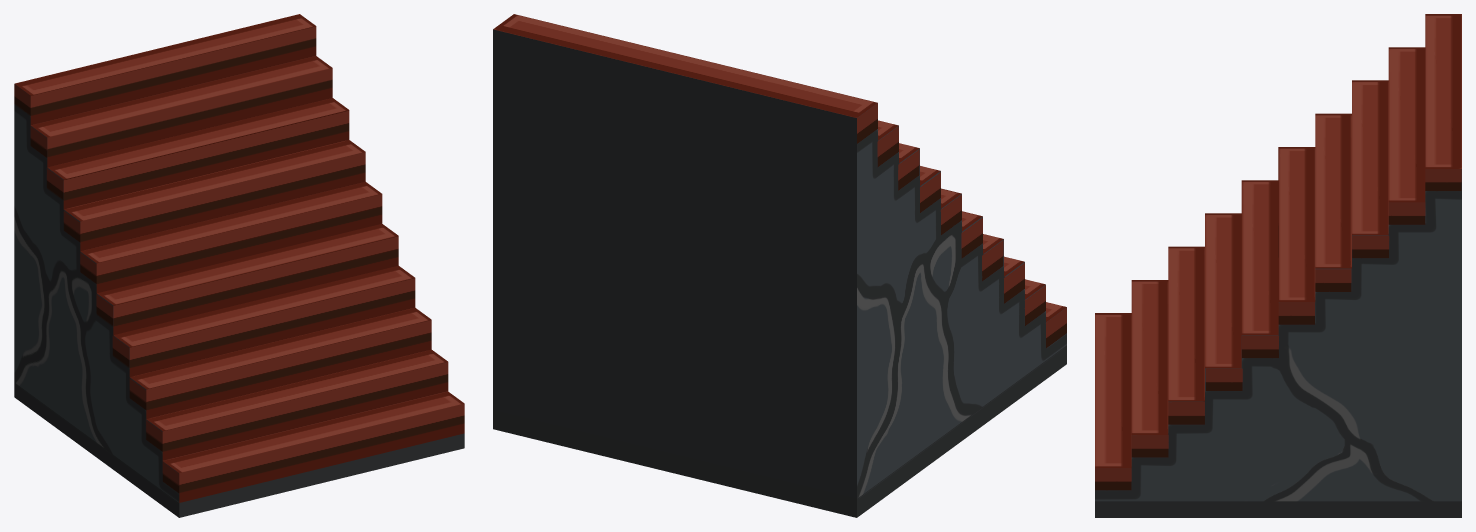
File: Stairs_v1.fbx
The picture shows the model from 3 angles, left to right: view 1: azimuth 30°, elevation 25°; view 2: azimuth 150°, elevation 25°; view 3: azimuth 270°, elevation 25°; orthographic projection. The views are drawn at different scales.
Visible parts, largest first — view 1: Stairs; view 2: Stairs; view 3: Stairs.
Part boxes in pixels (x1=…): Stairs: x1=14, y1=14, x2=464, y2=517; Stairs: x1=493, y1=14, x2=1066, y2=517; Stairs: x1=1095, y1=14, x2=1461, y2=517.
Size of the model in its own units: 100 by 100 by 105.
